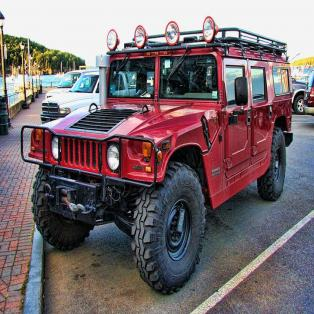Auto: (20, 14, 294, 298)
